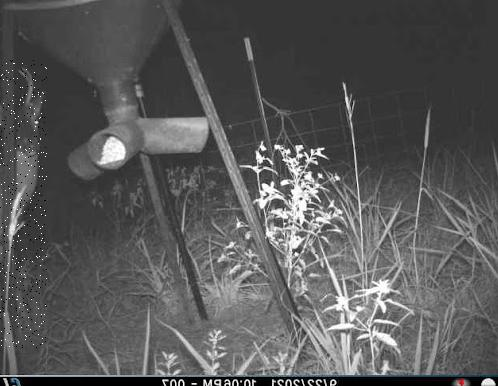Deer: (0, 60, 47, 349)
